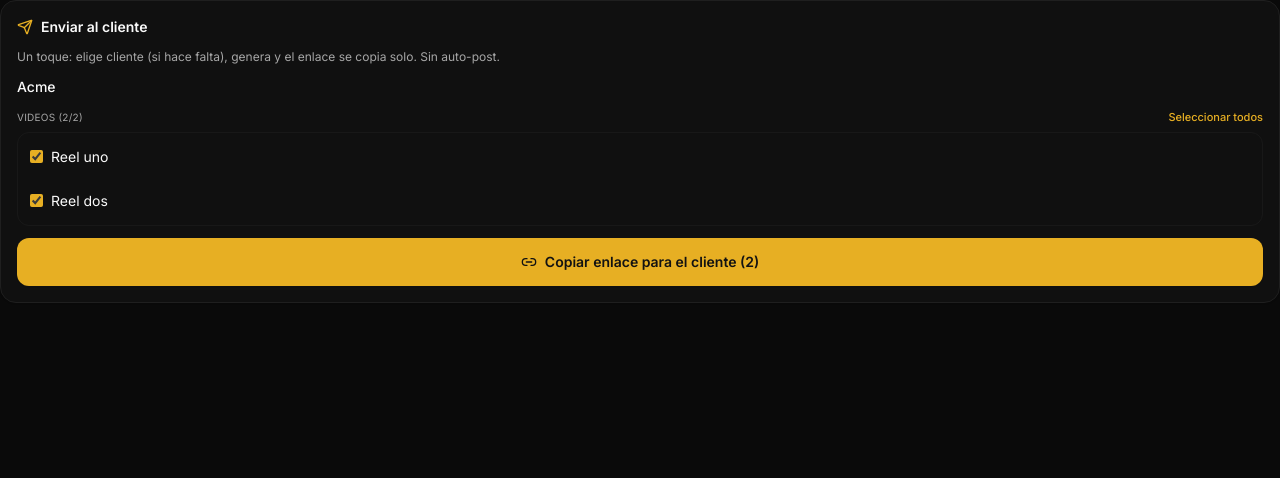
Scenario: EnviarAlCliente › auto-selects the only client and all videos, then one-tap copies the link
The width and height of the screenshot is (1280, 478).
Expected: the text with test id "enviar-cliente-unico" reads "Acme", [17,78,56,95]
Expected: the number of checkboxes is 2, [30,150,43,163]; [30,194,43,207]
Click the button "Copiar enlace para el cliente (2)" at (640, 262), box [17,238,1263,286]
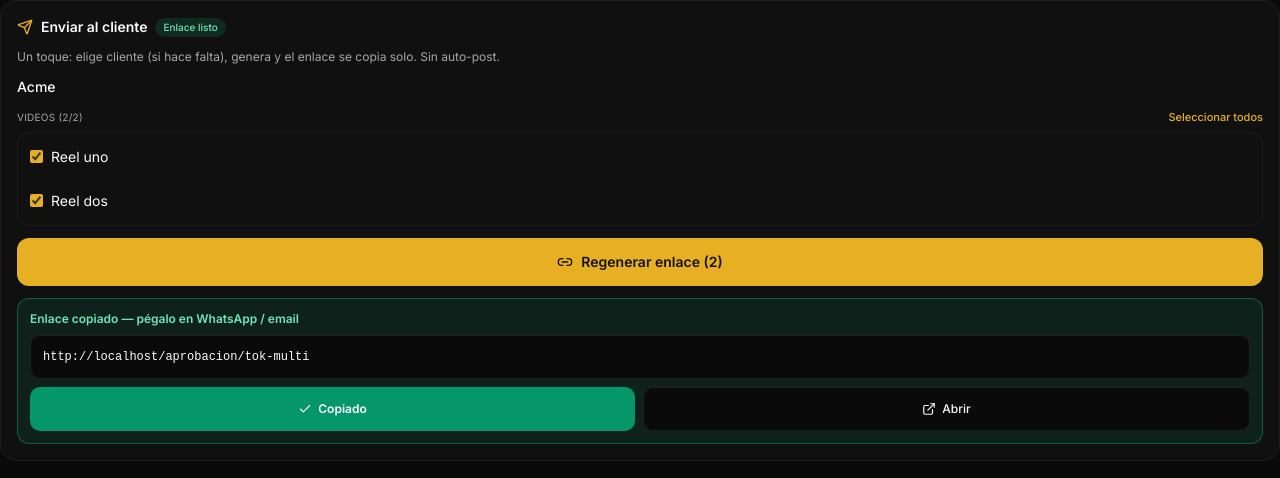
Result: the element with test id "enlace-aprobacion-result" is shown at [17,298,1263,444]
